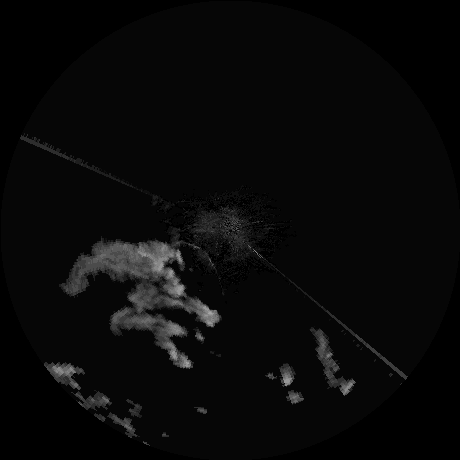frontgust: (177, 240, 217, 271)
